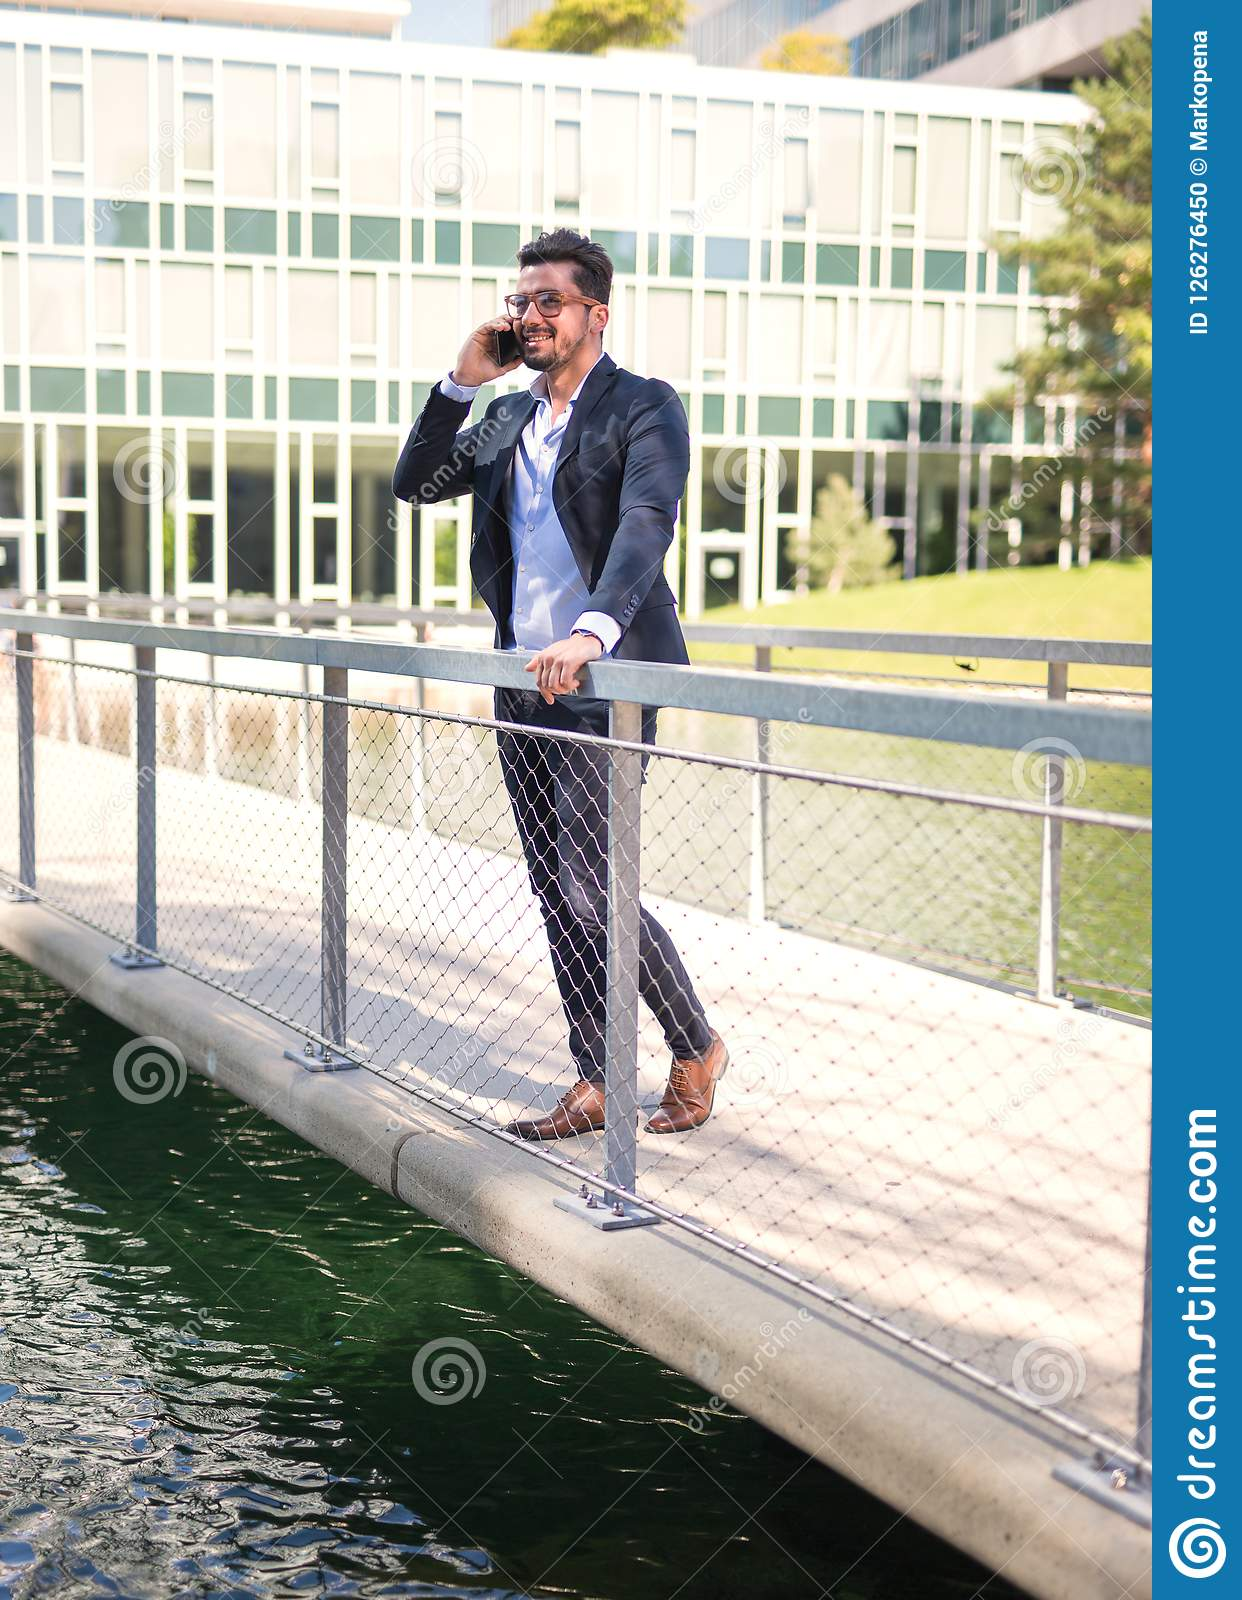phone: (494, 319, 524, 368)
talk: (459, 286, 572, 386)
